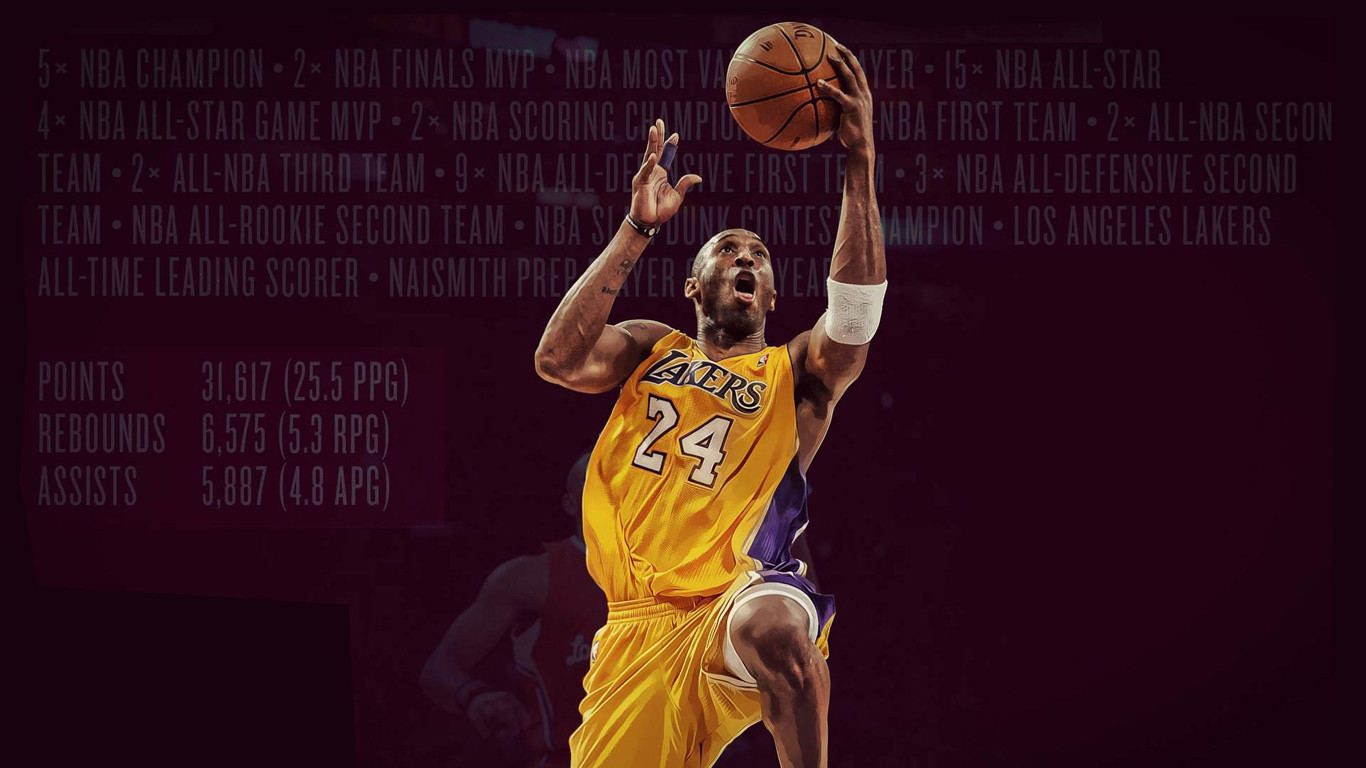ball: (725, 22, 859, 151)
